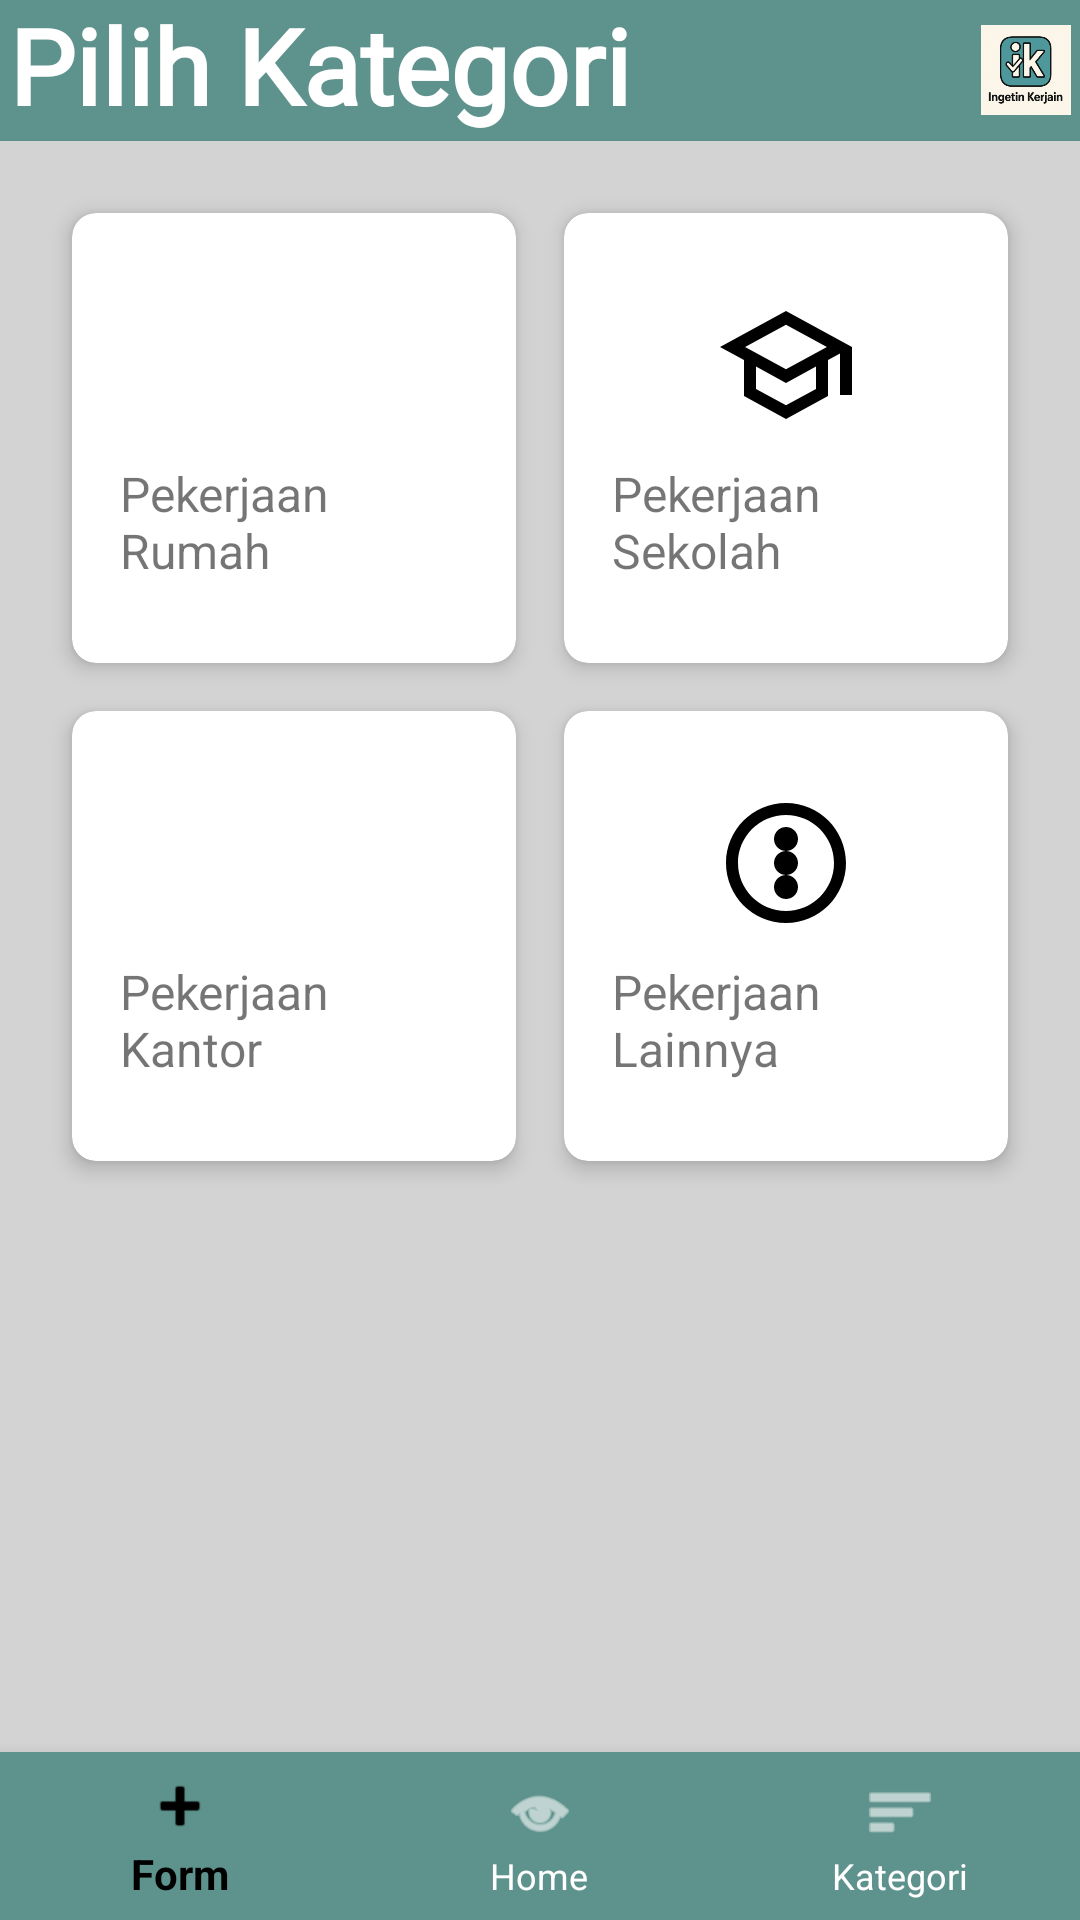

Screen size 1080 x 1920. Icon name, then its box in pixels as (x1, y1, x2, y2):
more: (726, 803, 846, 923)
school: (720, 311, 852, 419)
